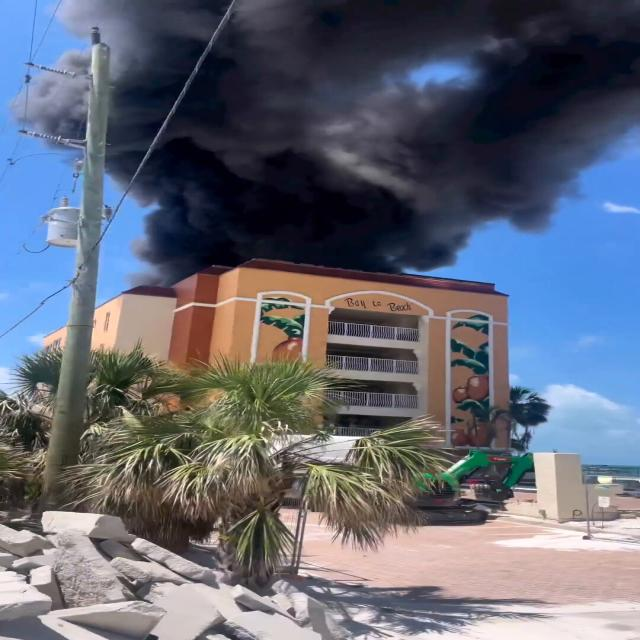fire: (138, 12, 516, 246)
